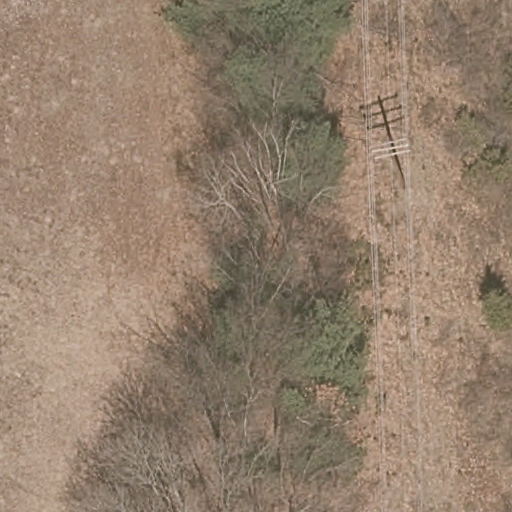DT: (369, 136, 411, 186)
